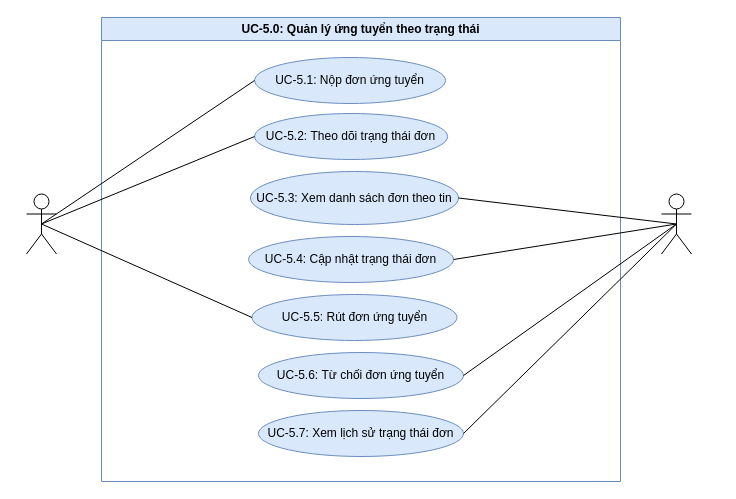
Image size: 736x499. Some labels were removed from this diagram. The shapes that lost their labels are listed below. From the top down, each one's centre as x and y in pixels, then its label:
the point at 41,223: Ứng viên
the point at 676,223: Nhà tuyển dụng
